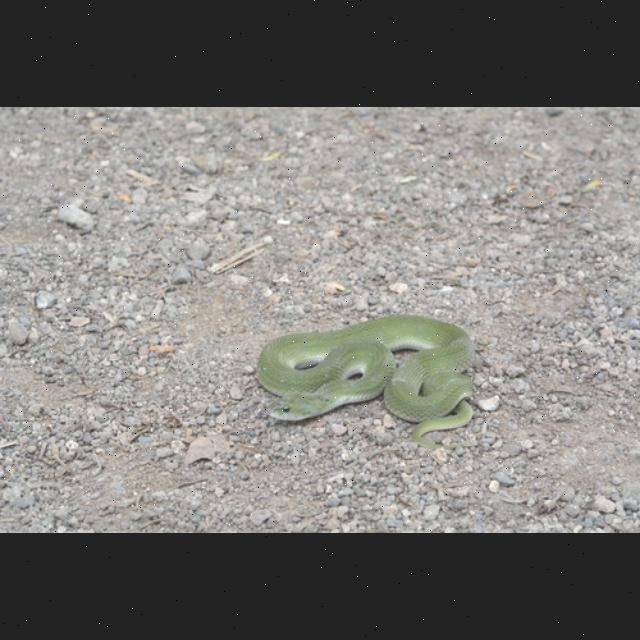snake: (255, 310, 491, 454)
